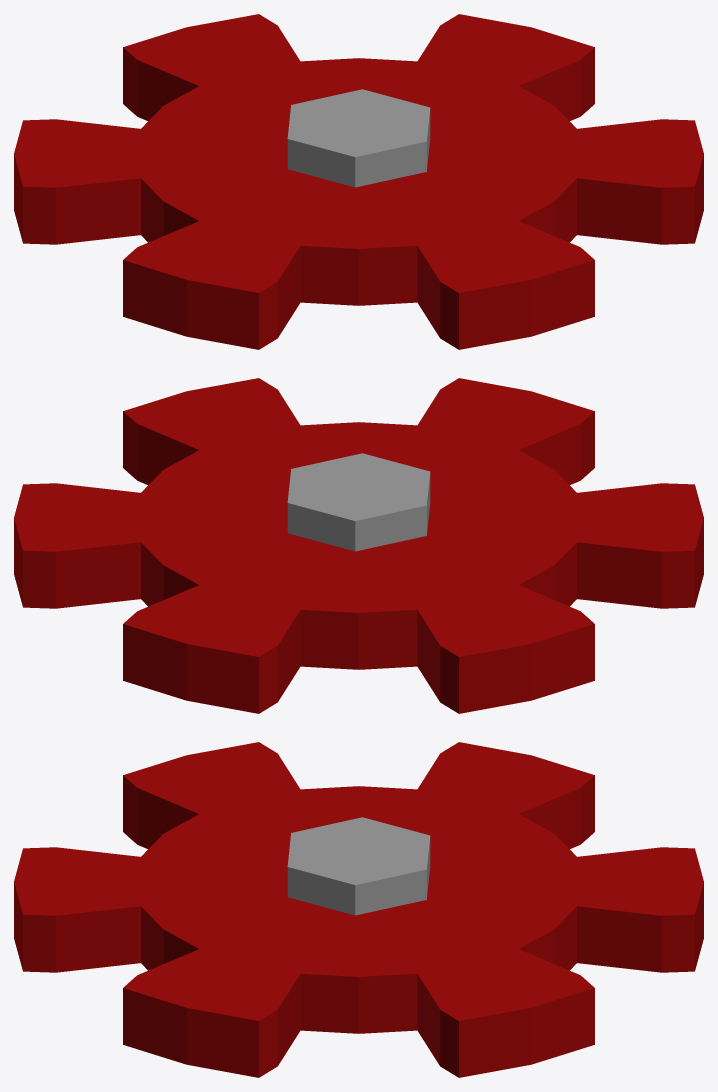
The model's file is gear-wheel.fbx.
3 views of the same model, one above another, from view 1: azimuth 30°, elevation 25°; view 2: azimuth 150°, elevation 25°; view 3: azimuth 270°, elevation 25° (orthographic).
Visible parts, largest first — view 1: Gear.006; view 2: Gear.006; view 3: Gear.006.
Part boxes in pixels (left/top/right/bottom): Gear.006: left=14, top=14, right=703, bottom=349; Gear.006: left=14, top=378, right=703, bottom=713; Gear.006: left=14, top=742, right=703, bottom=1077.
Size of the model in its own units: 1.05 by 0.1534 by 1.1.
